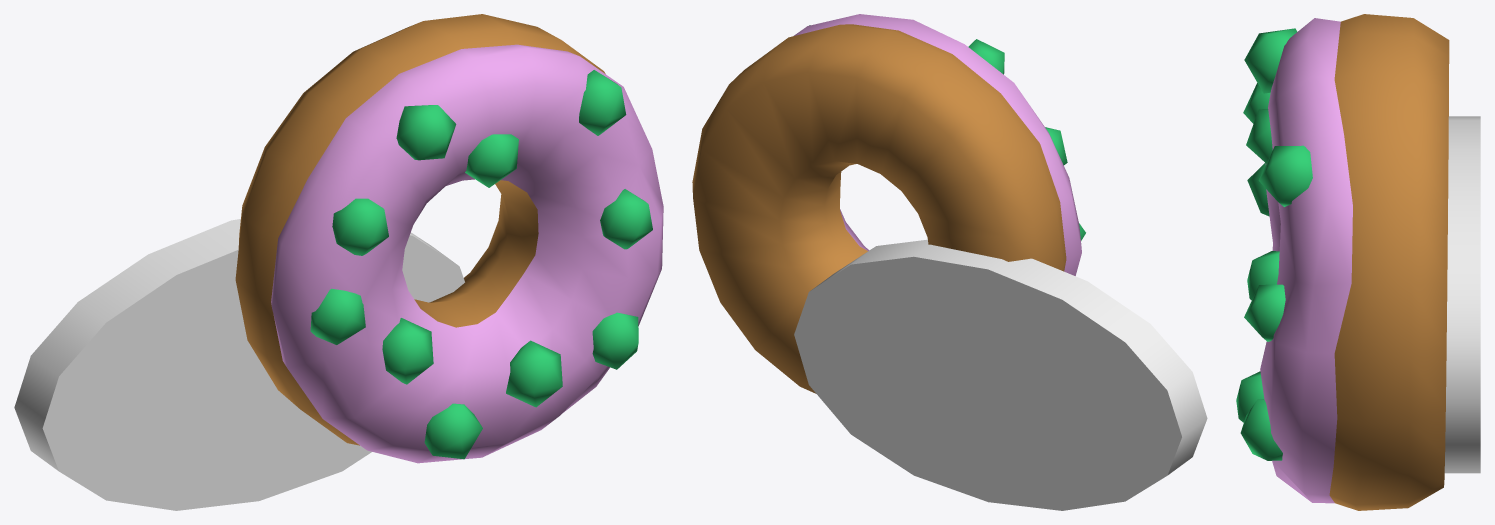
Rendered from shop01_upgrade1_s02.FBX.
3 renders of one model, left to right at view 1: azimuth 30°, elevation 25°; view 2: azimuth 150°, elevation 25°; view 3: azimuth 270°, elevation 25°, orthographic. The views are drawn at different scales.
Parts seen in each view (by area): view 1: shop01_upgrade1_s02; view 2: shop01_upgrade1_s02; view 3: shop01_upgrade1_s02.
Part boxes in pixels (x1=…): shop01_upgrade1_s02: x1=14, y1=14, x2=663, y2=510; shop01_upgrade1_s02: x1=692, y1=14, x2=1207, y2=510; shop01_upgrade1_s02: x1=1236, y1=14, x2=1480, y2=510.
Bounding box in the file's own units: 324 × 108 × 238.
Materials: 1 (1 with a texture image).
